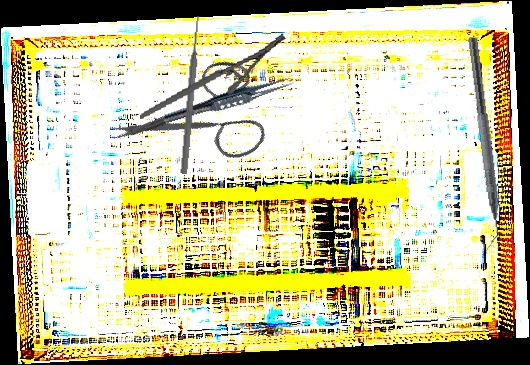Chopper: (453, 36, 508, 255)
Iris Scissors: (106, 27, 292, 215)
Needle Holder: (129, 32, 296, 120)
Pusher: (179, 15, 203, 175)
Tissue Forceps: (161, 70, 296, 130)
